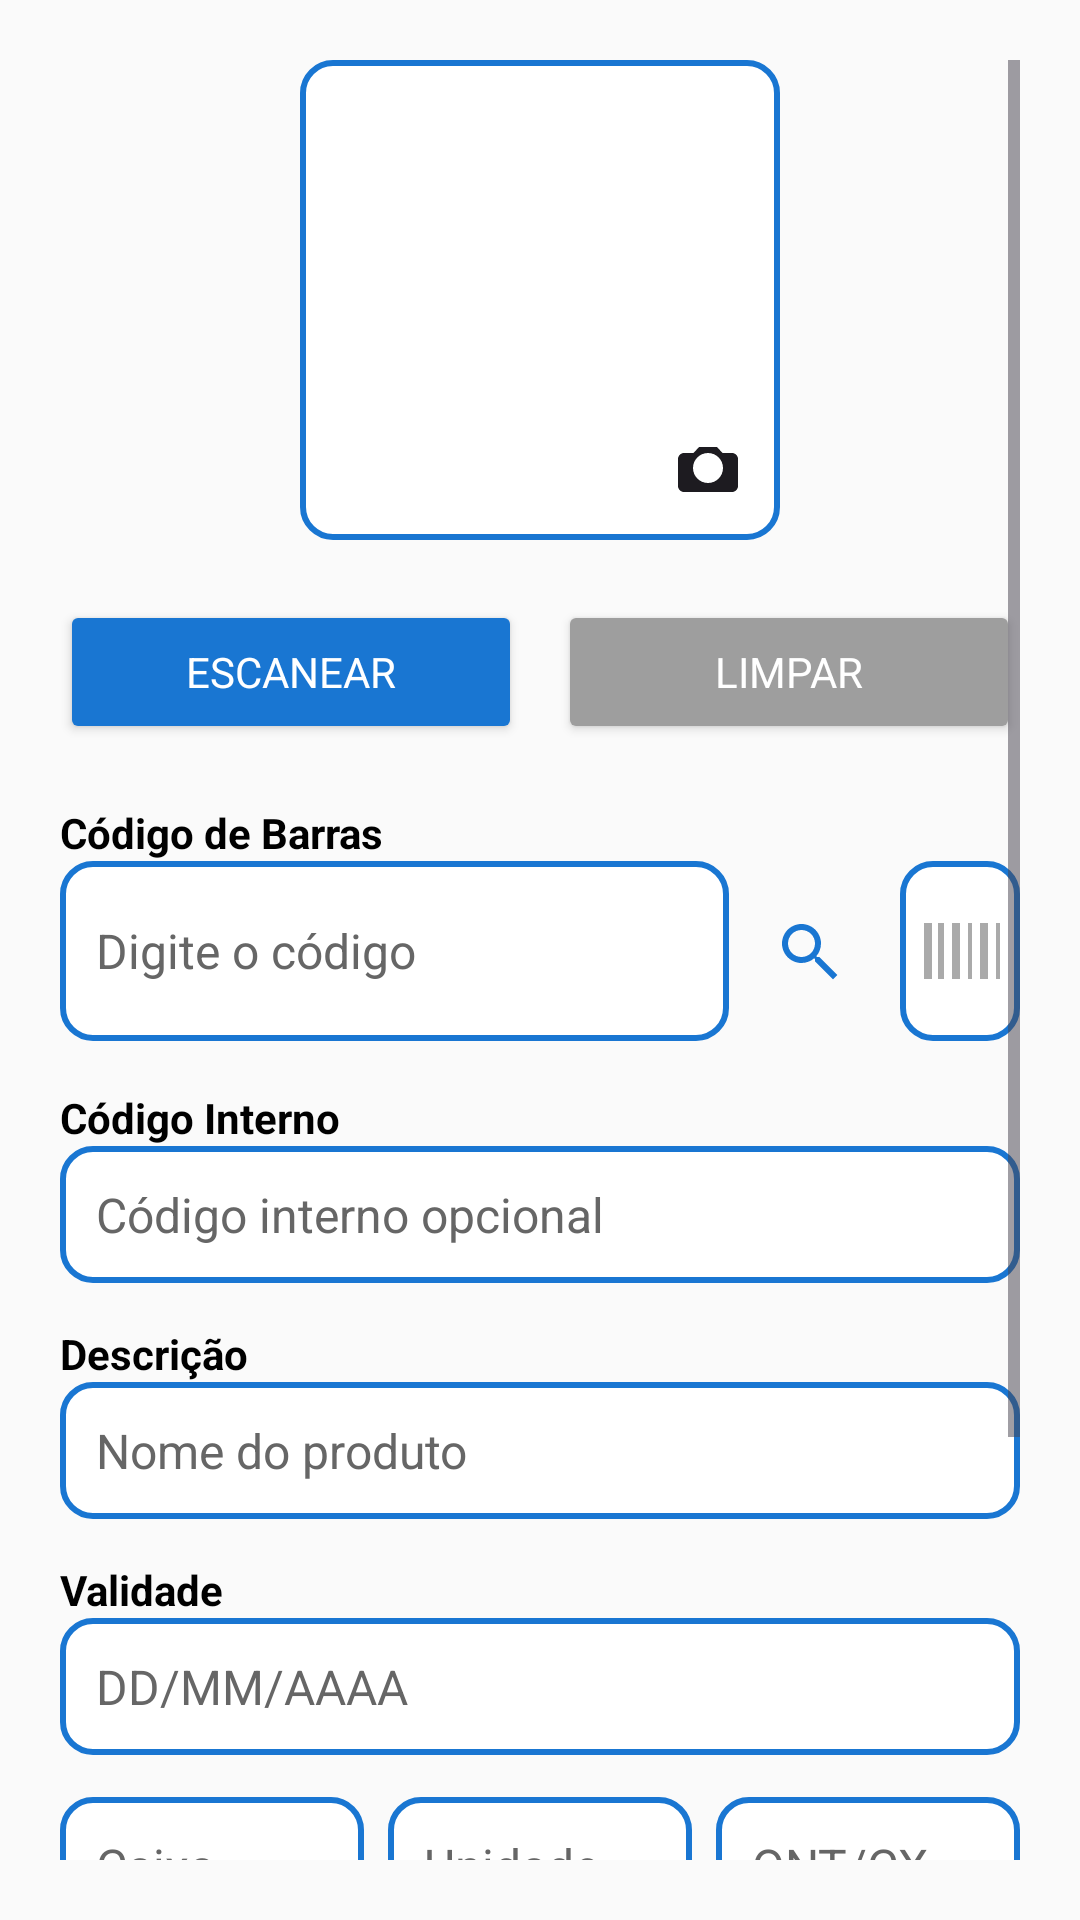

Where icons sit on this 1080*1920 app screen, as bbox=[x1, y1, x2, y2]:
search: bbox=[782, 924, 837, 979]
Tirar foto: bbox=[678, 447, 738, 492]
